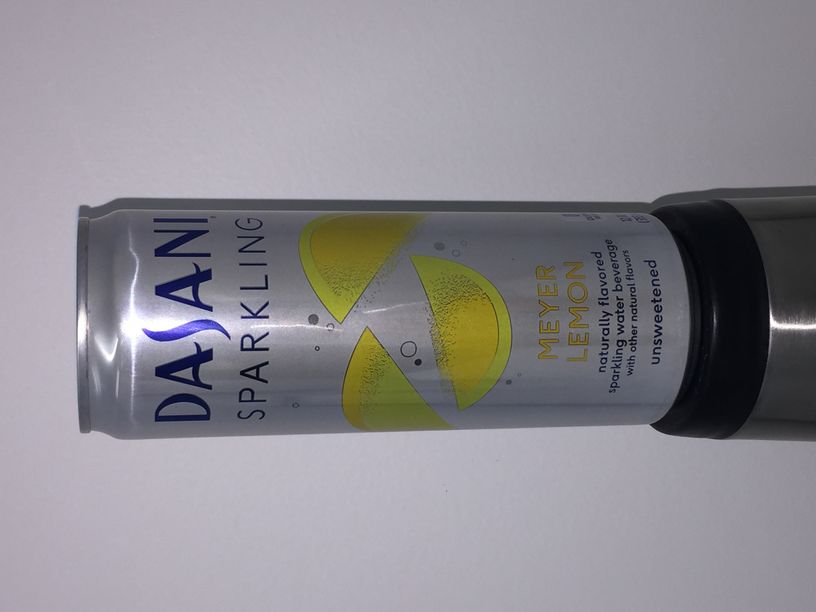lemon: (73, 209, 690, 443)
